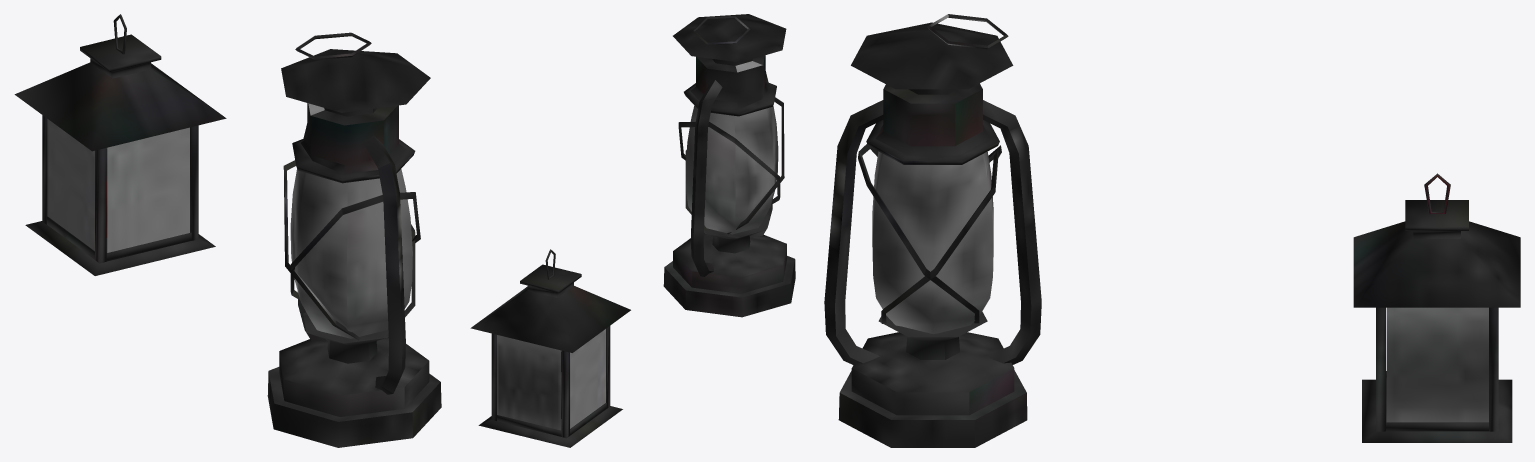
Rendered from lentera.fbx.
3 views of the same model, side by side, from view 1: azimuth 30°, elevation 25°; view 2: azimuth 150°, elevation 25°; view 3: azimuth 270°, elevation 25° (orthographic). The views are drawn at different scales.
Parts seen in each view (by area): view 1: Lentera, Lantern; view 2: Lentera, Lantern; view 3: Lentera, Lantern.
Boxes of the visible parts, x1,y1,x2,y2 form: Lentera: (267,32,441,447); Lantern: (14,14,226,275); Lentera: (663,14,795,317); Lantern: (470,249,630,447); Lentera: (824,14,1041,447); Lantern: (1353,173,1520,442).
Size of the model in its own units: 26.33 by 61.34 by 99.19.
